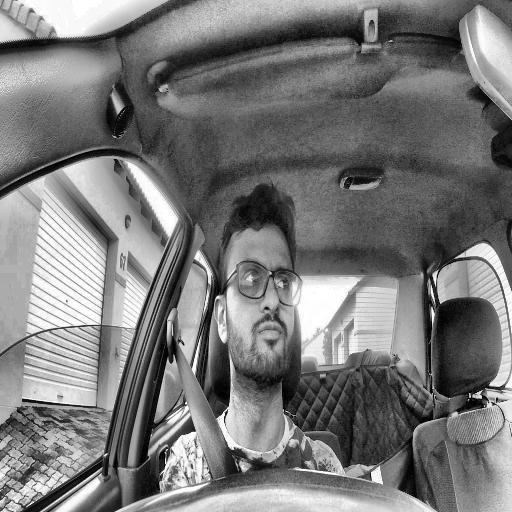awake: (214, 180, 303, 382)
